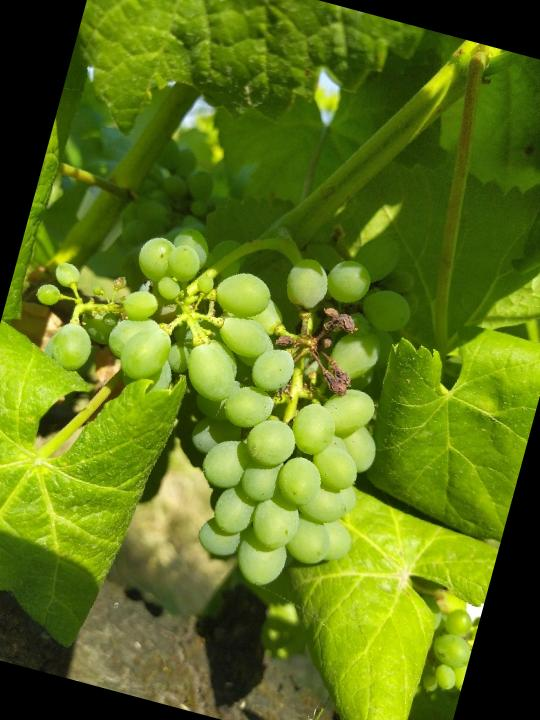grape: (0, 153, 438, 612)
